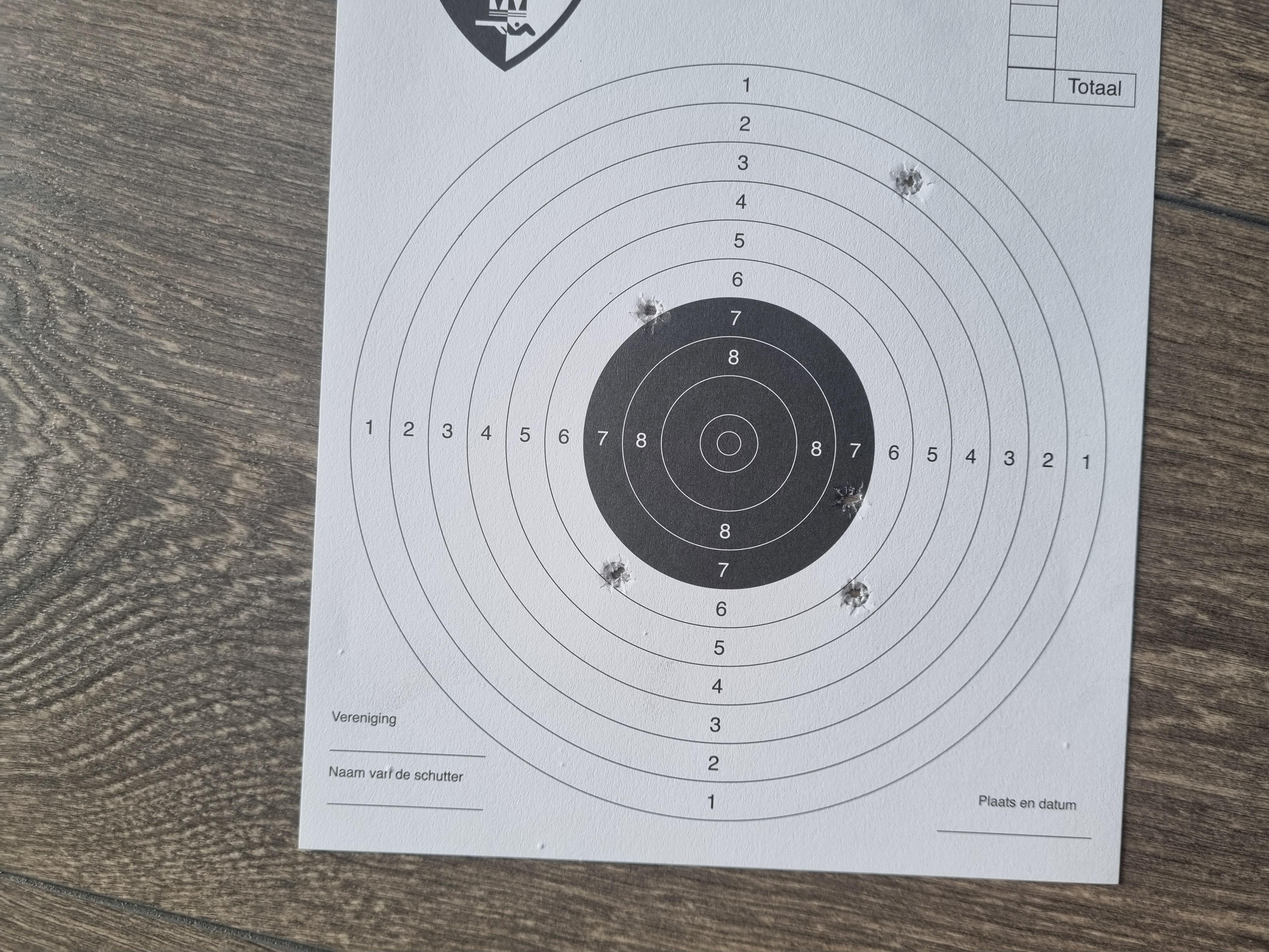hole: (825, 473, 875, 498), (579, 624, 628, 649), (447, 630, 498, 652), (484, 450, 530, 472), (997, 671, 1044, 692)
